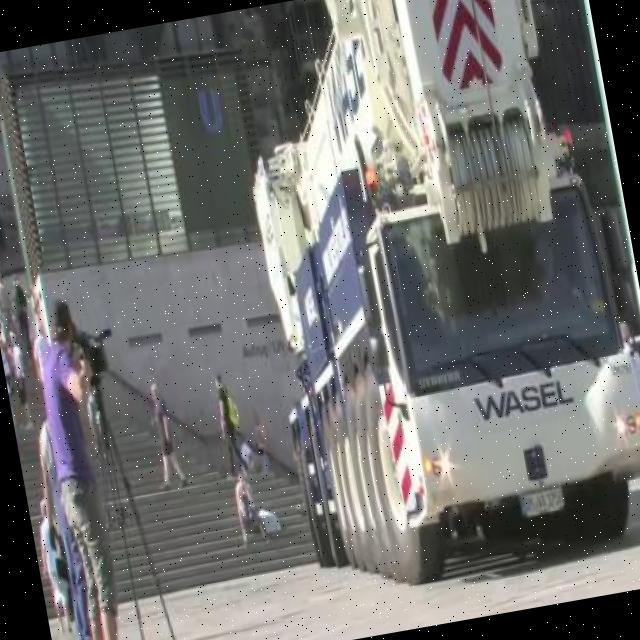Mobile Crane: (210, 0, 640, 599)
